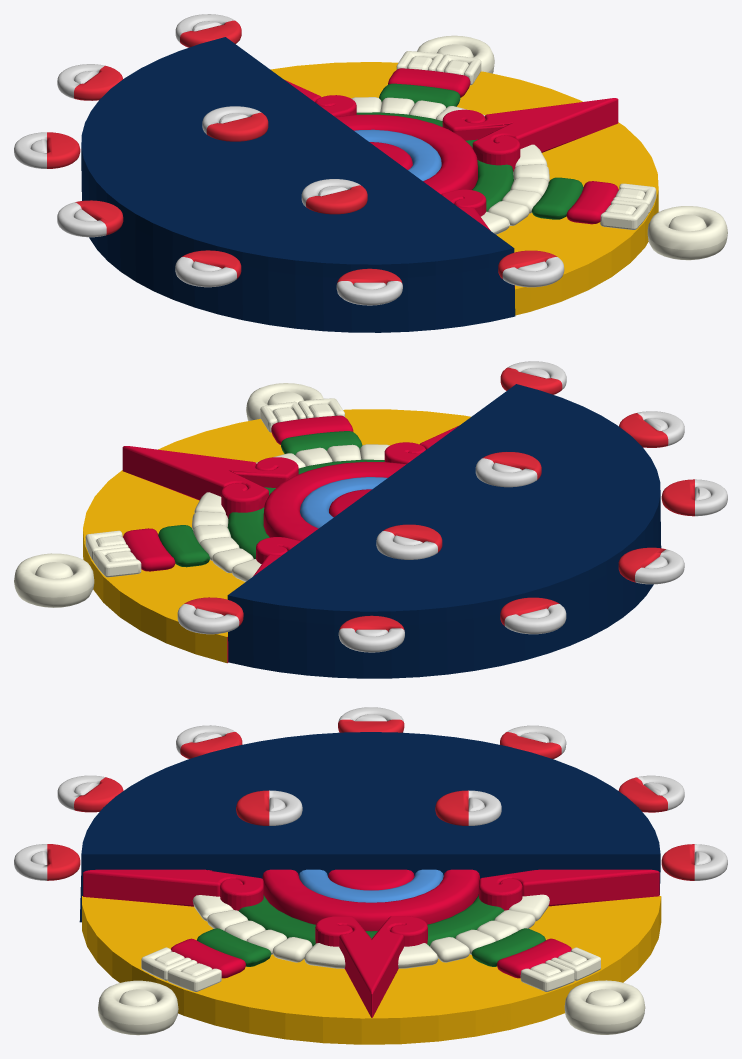
File: tonatiuh_cualo_3d.gltf
The picture shows the model from 3 angles, top to bottom: view 1: azimuth 30°, elevation 25°; view 2: azimuth 150°, elevation 25°; view 3: azimuth 270°, elevation 25°; orthographic projection.
Visible parts, largest first — view 1: Outer circle.002, Center, outer.003, outer.002; view 2: Outer circle.002, Center, outer.003, outer.002; view 3: Center, Outer circle.002, outer.002, outer.003.
Boxes of the visible parts, x1,y1,x2,y2 form: Outer circle.002: (14,14,564,332); Center: (270,35,727,315); outer.003: (202,106,268,141); outer.002: (301,179,367,214); Outer circle.002: (177,361,727,678); Center: (14,383,470,663); outer.003: (376,524,442,559); outer.002: (475,452,541,487); Center: (82,869,661,1044); Outer circle.002: (14,707,727,922); outer.002: (236,790,302,825); outer.003: (435,790,501,825).
Bounding box in the file's own units: 4.46 × 0.5882 × 4.92.
